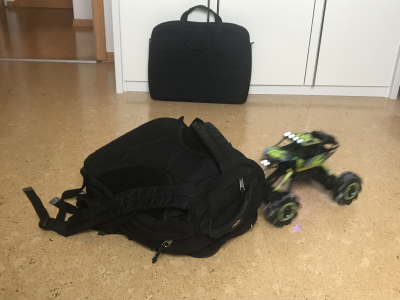remote control car: (256, 128, 366, 229)
